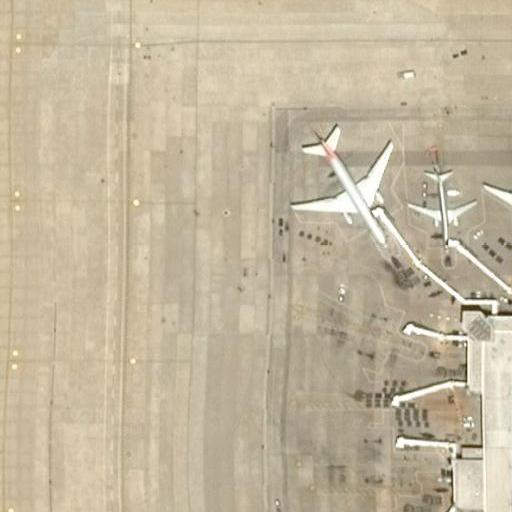Aircraft: (285, 125, 393, 247), (407, 168, 471, 246), (481, 134, 512, 265)
